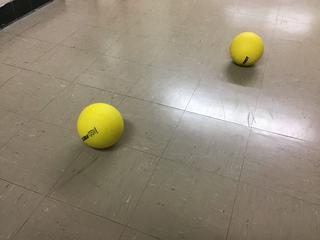power_cell: (71, 101, 133, 153), (229, 27, 267, 72)
